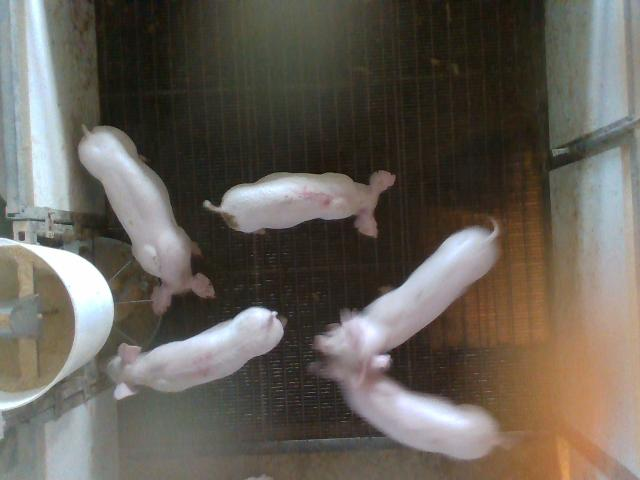pig-4: (108, 308, 284, 399)
pig-5: (204, 170, 395, 237)
